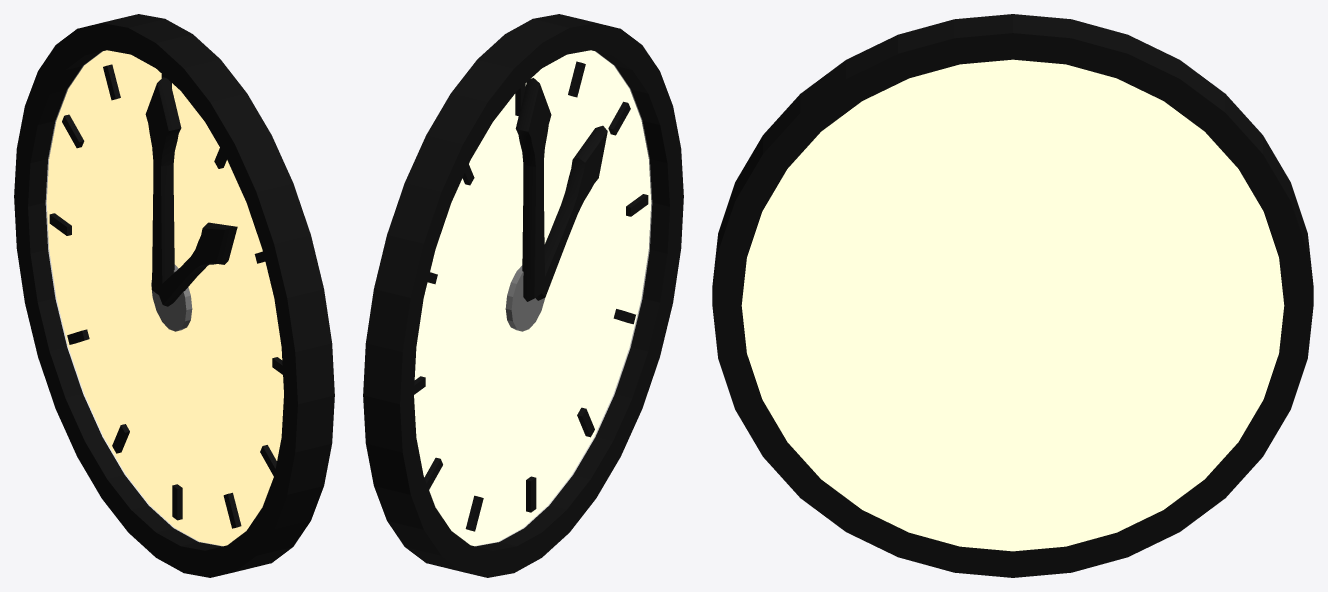
File: Klok-1.glb
3 renders of one model, left to right at view 1: azimuth 30°, elevation 25°; view 2: azimuth 150°, elevation 25°; view 3: azimuth 270°, elevation 25°, orthographic. The views are drawn at different scales.
Parts seen in each view (by area): view 1: Cylinder.283, Cylinder.039, Klok_GroteWijzer, Cube.108, Klok_KleineWijzer, Cylinder.284; view 2: Cylinder.283, Cylinder.039, Klok_GroteWijzer, Klok_KleineWijzer, Cube.108, Cylinder.284; view 3: Cylinder.283, Cylinder.039.
Boxes of the visible parts, x1=… form: Cylinder.283: x1=46, y1=50, x2=283, y2=546; Cylinder.039: x1=14, y1=14, x2=334, y2=577; Klok_GroteWijzer: x1=145, y1=77, x2=181, y2=296; Cube.108: x1=49, y1=64, x2=282, y2=528; Klok_KleineWijzer: x1=159, y1=222, x2=237, y2=306; Cylinder.284: x1=151, y1=264, x2=192, y2=331; Cylinder.283: x1=414, y1=50, x2=651, y2=546; Cylinder.039: x1=363, y1=14, x2=683, y2=577; Klok_GroteWijzer: x1=515, y1=78, x2=551, y2=301; Klok_KleineWijzer: x1=535, y1=125, x2=607, y2=300; Cube.108: x1=414, y1=61, x2=648, y2=531; Cylinder.284: x1=505, y1=265, x2=544, y2=331; Cylinder.283: x1=741, y1=59, x2=1284, y2=551; Cylinder.039: x1=712, y1=14, x2=1313, y2=577.
Size of the model in its own units: 0.4711 by 6.27 by 6.27.
